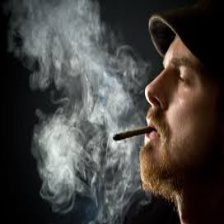smoke: (26, 25, 139, 210)
